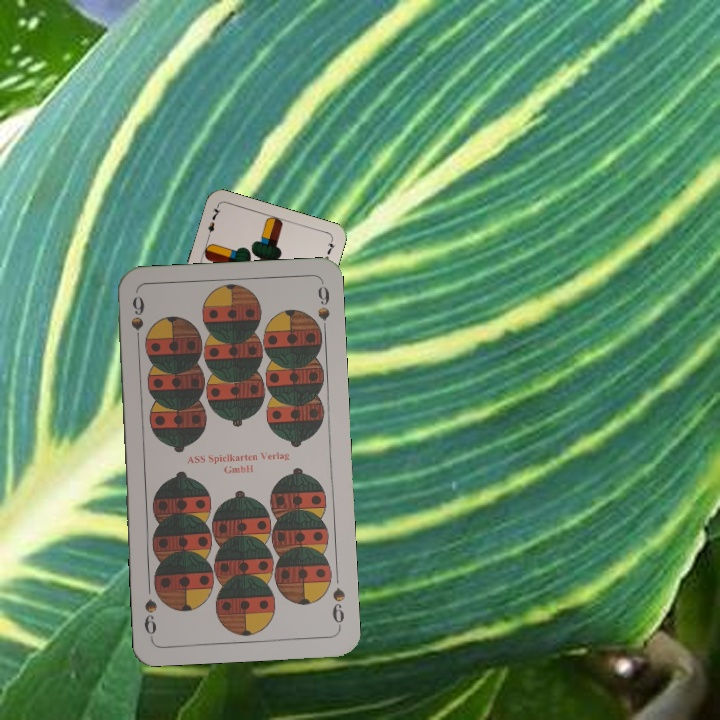E7: (202, 203, 223, 243)
S9: (127, 291, 147, 350), (328, 584, 347, 631)
